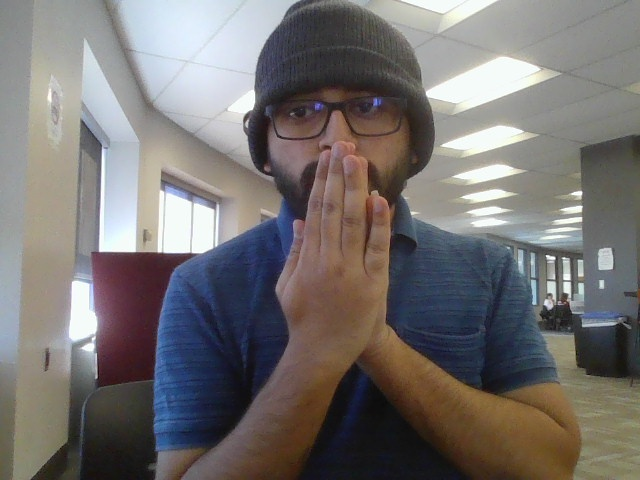start: (270, 139, 406, 372)
